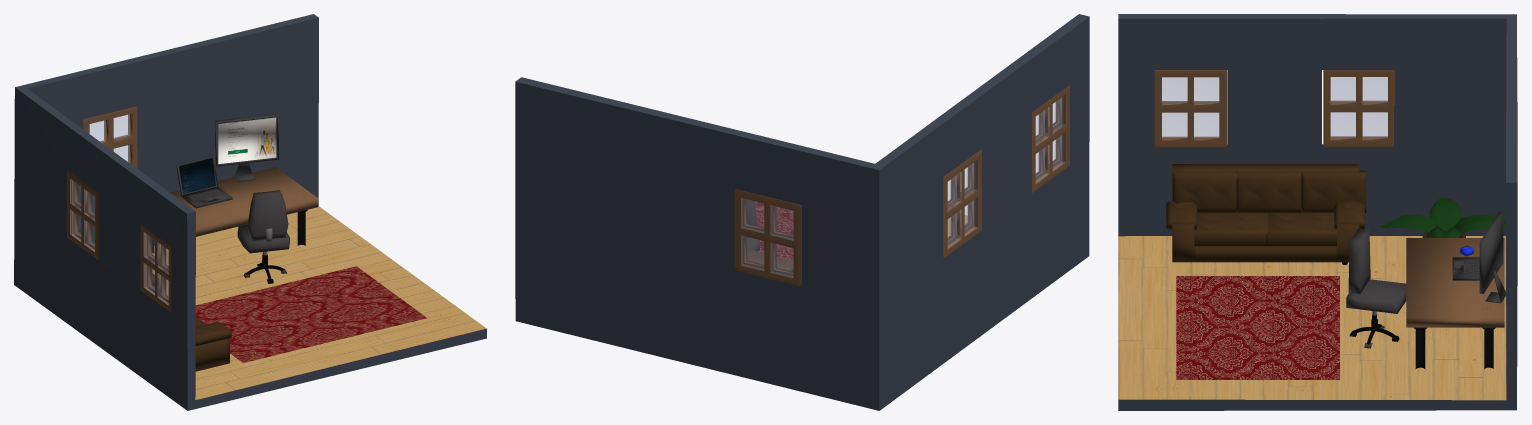
The model's file is lofi_office.glb.
3 renders of one model, left to right at view 1: azimuth 30°, elevation 25°; view 2: azimuth 150°, elevation 25°; view 3: azimuth 270°, elevation 25°, orthographic. The views are drawn at different scales.
Visible parts, largest first — view 1: room, Plane, table, monitor, window, window.001, window.003, Cube.084, laptop screen, Plane.001, Cube.064, Plane.008 (+1 smaller); view 2: room, window.003, window, window.001, Plane; view 3: room, Plane, table, window.001, Plane.001, window, Plane.005, Plane.003, Plane.004, Plane.006, Plane.002, Cube.064 (+10 smaller).
Boxes of the visible parts, bbox=[...] form: room: bbox=[14, 14, 486, 410]; Plane: bbox=[195, 266, 427, 362]; table: bbox=[170, 167, 318, 236]; monitor: bbox=[215, 114, 278, 166]; window: bbox=[67, 170, 99, 259]; window.001: bbox=[140, 224, 171, 312]; window.003: bbox=[83, 106, 137, 168]; Cube.084: bbox=[247, 190, 288, 240]; laptop screen: bbox=[176, 156, 217, 195]; Plane.001: bbox=[154, 285, 229, 371]; Cube.064: bbox=[237, 224, 289, 253]; Plane.008: bbox=[195, 321, 231, 346]; room: bbox=[515, 14, 1089, 410]; window.003: bbox=[734, 189, 801, 286]; window: bbox=[943, 149, 981, 258]; window.001: bbox=[1032, 85, 1069, 192]; Plane: bbox=[755, 201, 793, 259]; room: bbox=[1118, 14, 1517, 410]; Plane: bbox=[1176, 276, 1339, 379]; table: bbox=[1406, 238, 1504, 327]; window.001: bbox=[1154, 70, 1226, 147]; Plane.001: bbox=[1172, 164, 1359, 262]; window: bbox=[1323, 70, 1395, 146]; Plane.005: bbox=[1236, 172, 1300, 212]; Plane.003: bbox=[1194, 213, 1270, 246]; Plane.004: bbox=[1301, 170, 1366, 212]; Plane.006: bbox=[1172, 172, 1237, 212]; Plane.002: bbox=[1266, 211, 1336, 246]; Cube.064: bbox=[1346, 279, 1406, 313].
Bounding box in the file's own units: 8.12 × 5.12 × 8.12.
16 materials, 4 textured.
